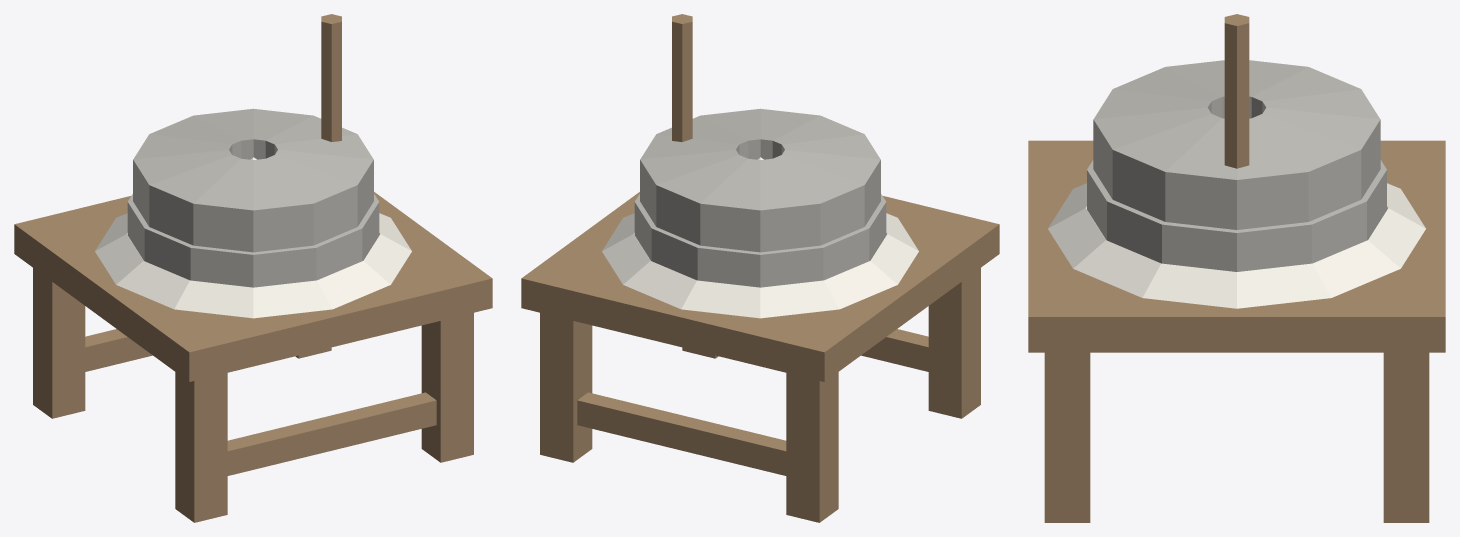
File: prop-hand-quern-stone.glb
3 views of the same model, side by side, from view 1: azimuth 30°, elevation 25°; view 2: azimuth 150°, elevation 25°; view 3: azimuth 270°, elevation 25° (orthographic). The views are drawn at different scales.
Parts seen in each view (by area): view 1: prop-hand-quern-stone; view 2: prop-hand-quern-stone; view 3: prop-hand-quern-stone.
Boxes of the visible parts, x1=… form: prop-hand-quern-stone: x1=14, y1=14, x2=492, y2=522; prop-hand-quern-stone: x1=521, y1=14, x2=999, y2=522; prop-hand-quern-stone: x1=1028, y1=14, x2=1445, y2=522.
Bounding box in the file's own units: 0.64 × 0.79 × 0.64.
